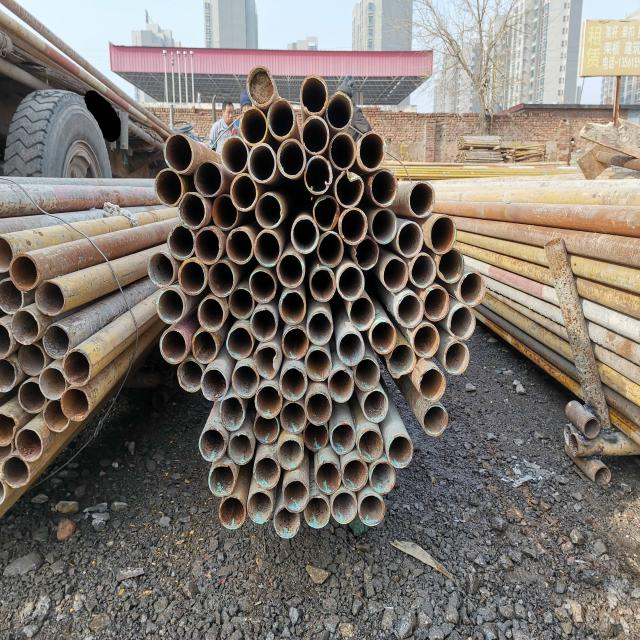pipe: (302, 153, 334, 198), (345, 292, 376, 338), (428, 213, 459, 257), (324, 90, 356, 132), (192, 223, 224, 264), (385, 340, 417, 381), (277, 135, 305, 181), (245, 67, 278, 106), (238, 107, 270, 147), (266, 98, 296, 140), (32, 278, 66, 315), (416, 366, 449, 404), (163, 134, 195, 173), (355, 130, 386, 170), (300, 115, 330, 156), (247, 143, 277, 184), (434, 247, 466, 285), (157, 327, 189, 365), (197, 364, 229, 402), (230, 363, 262, 401), (406, 180, 436, 220), (339, 206, 369, 246), (166, 221, 195, 262), (253, 228, 282, 269), (63, 348, 92, 389), (288, 216, 320, 253), (418, 403, 450, 440), (336, 168, 364, 210), (178, 190, 208, 229), (178, 258, 208, 297), (221, 134, 250, 174), (230, 173, 259, 213), (300, 74, 328, 115), (330, 487, 358, 528), (193, 158, 223, 196), (328, 130, 358, 168), (157, 287, 187, 325), (224, 323, 254, 361), (175, 356, 205, 394), (254, 384, 284, 422), (314, 459, 344, 497), (395, 220, 424, 259), (247, 267, 276, 306), (197, 294, 226, 333), (448, 302, 477, 341), (458, 271, 486, 311), (327, 366, 355, 406), (253, 191, 283, 228), (394, 291, 424, 328), (278, 362, 308, 399), (252, 342, 280, 381), (42, 321, 70, 360), (61, 388, 94, 421), (409, 249, 436, 289), (387, 434, 417, 470), (155, 168, 184, 205), (337, 263, 366, 300), (212, 193, 240, 231), (207, 261, 235, 299), (250, 306, 278, 344), (306, 309, 334, 347), (443, 338, 471, 376), (380, 258, 411, 292), (225, 226, 252, 265), (227, 286, 257, 321), (14, 428, 44, 463), (2, 455, 32, 490), (358, 492, 387, 528), (370, 206, 398, 243), (282, 325, 310, 362), (149, 252, 176, 290), (191, 326, 218, 364), (305, 348, 332, 386), (370, 172, 400, 206), (279, 401, 309, 435), (423, 286, 451, 322), (338, 332, 366, 368), (369, 320, 396, 357), (340, 457, 370, 490), (316, 230, 344, 265), (413, 323, 441, 358), (356, 358, 384, 393), (368, 459, 396, 494), (198, 427, 226, 462), (218, 394, 245, 430), (252, 412, 281, 445), (281, 478, 309, 512), (218, 497, 246, 531), (228, 429, 253, 467), (279, 290, 306, 325), (363, 388, 390, 423), (12, 254, 38, 290), (13, 309, 39, 345), (312, 196, 339, 230), (278, 254, 305, 288), (44, 398, 71, 432), (17, 344, 44, 378), (310, 267, 336, 302), (302, 420, 329, 453), (40, 365, 67, 398), (329, 421, 355, 455), (303, 495, 331, 526), (358, 430, 385, 462), (353, 235, 379, 268), (248, 492, 273, 526), (256, 458, 282, 490), (306, 391, 331, 424), (274, 508, 300, 539), (18, 381, 44, 412), (209, 465, 235, 495), (278, 441, 306, 468), (1, 278, 22, 314), (0, 410, 18, 446), (2, 358, 18, 393), (0, 236, 14, 273), (584, 416, 602, 441), (595, 465, 612, 489), (1, 323, 13, 355)
